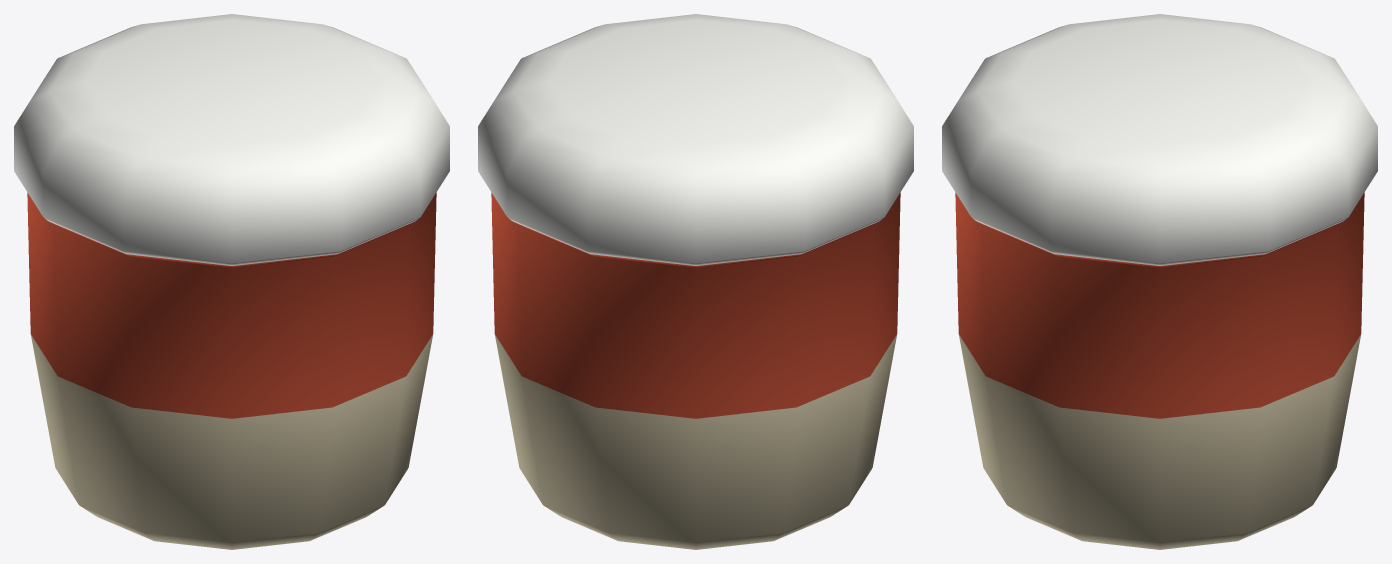
Rendered from Tub_IceCream_01.glb.
The picture shows the model from 3 angles, left to right: view 1: azimuth 30°, elevation 25°; view 2: azimuth 150°, elevation 25°; view 3: azimuth 270°, elevation 25°; orthographic projection.
Parts seen in each view (by area): view 1: SM_Tub_IceCream_01; view 2: SM_Tub_IceCream_01; view 3: SM_Tub_IceCream_01.
Boxes of the visible parts, <box> form: SM_Tub_IceCream_01: <box>14,14,449,549</box>; SM_Tub_IceCream_01: <box>478,14,913,549</box>; SM_Tub_IceCream_01: <box>942,14,1377,549</box>.
Bounding box in the file's own units: 0.118 × 0.12 × 0.118.
Materials: 1 (1 with a texture image).
